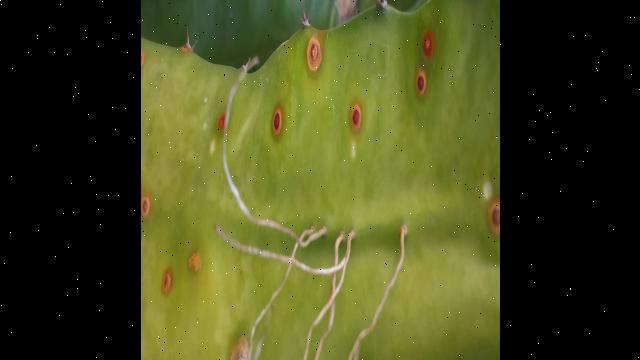stemcanker: (303, 34, 325, 73), (267, 105, 291, 138), (417, 29, 441, 61), (346, 103, 365, 137), (157, 266, 176, 298), (485, 198, 500, 235), (414, 63, 430, 95), (210, 110, 228, 138), (187, 249, 205, 275), (140, 195, 154, 220)
